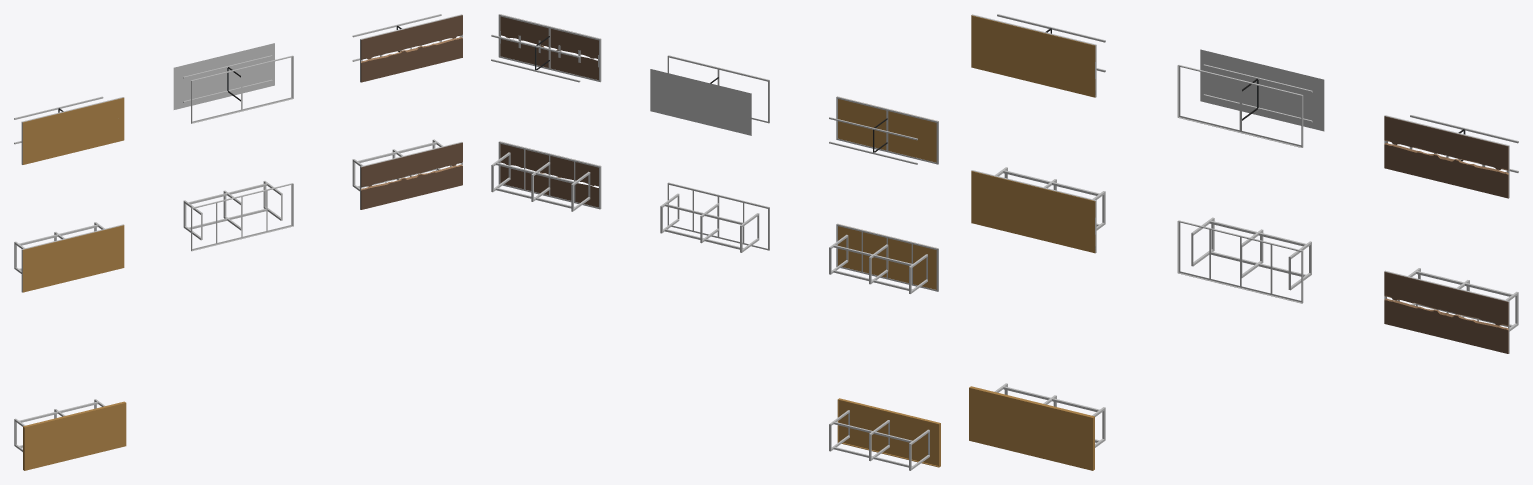
File: table_2.obj
The picture shows the model from 3 angles, left to right: view 1: azimuth 30°, elevation 25°; view 2: azimuth 150°, elevation 25°; view 3: azimuth 330°, elevation 25°; orthographic projection. The views are drawn at different scales.
Visible parts, largest first — view 1: obj339, obj666, obj226, obj779, obj2, obj3, obj467, obj515, obj516, obj519, obj462, obj464 (+22 smaller); view 2: obj457, obj1044, obj508, obj2, obj3, obj328, obj346, obj267, obj768, obj786, obj233, obj707 (+7 smaller); view 3: obj226, obj339, obj666, obj779, obj2, obj3, obj468, obj463, obj464, obj465, obj516, obj517 (+24 smaller).
Boxes of the visible parts, x1,y1,x2,y2 form: obj339: (361,15,462,59); obj666: (361,166,462,209); obj226: (361,38,462,82); obj779: (361,143,462,186); obj2: (224,43,274,97); obj3: (174,55,224,85); obj467: (23,102,124,131); obj515: (23,249,124,278); obj516: (23,239,124,268); obj519: (23,244,124,273); obj462: (23,131,124,160); obj464: (23,121,124,150); obj457: (838,99,936,162); obj1044: (839,400,938,465); obj508: (838,226,936,289); obj2: (650,69,700,123); obj3: (701,81,751,111); obj328: (550,29,598,58); obj346: (500,16,548,46); obj267: (550,50,598,80); obj768: (550,156,598,186); obj786: (500,143,548,174); obj233: (500,38,548,67); obj707: (550,177,598,207); obj226: (1384,144,1507,198); obj339: (1384,116,1507,169); obj666: (1384,300,1507,353); obj779: (1384,272,1507,325); obj2: (1262,64,1324,131); obj3: (1200,49,1262,90); obj468: (971,38,1094,74); obj463: (971,50,1094,86); obj464: (971,44,1094,80); obj465: (971,32,1094,68); obj516: (971,188,1094,224); obj517: (971,182,1094,218).
Bounding box in the file's own units: 520 × 392 × 41.5.
